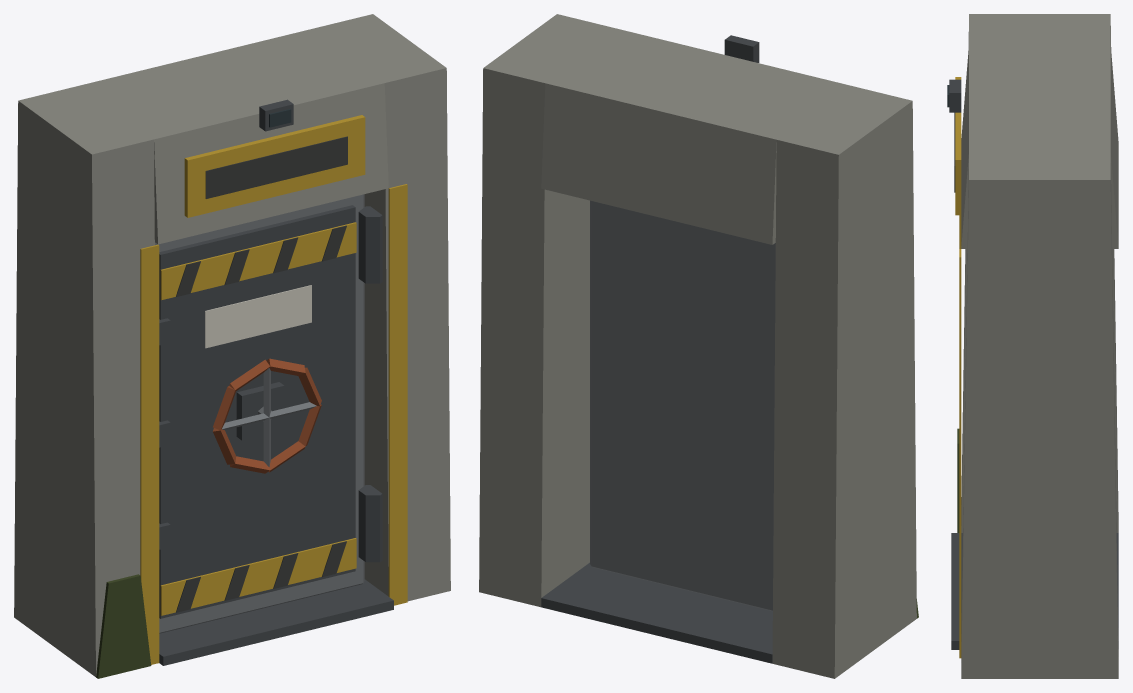
File: armoury_bunker_door.glb
3 renders of one model, left to right at view 1: azimuth 30°, elevation 25°; view 2: azimuth 150°, elevation 25°; view 3: azimuth 270°, elevation 25°, orthographic. The views are drawn at different scales.
Parts seen in each view (by area): view 1: armoury_bunker_door_mesh; view 2: armoury_bunker_door_mesh; view 3: armoury_bunker_door_mesh.
Boxes of the visible parts, x1,y1,x2,y2 form: armoury_bunker_door_mesh: [14, 14, 450, 678]; armoury_bunker_door_mesh: [479, 14, 918, 678]; armoury_bunker_door_mesh: [947, 14, 1118, 678].
Size of the model in its own units: 2 by 2.86 by 0.87.
